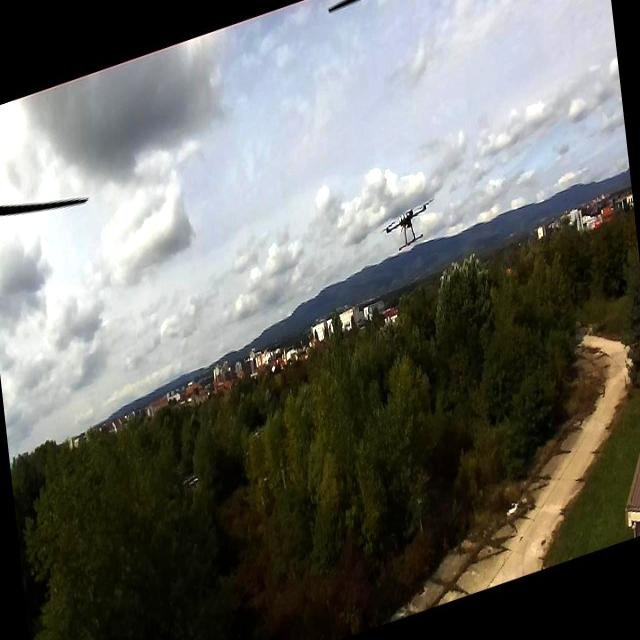drone: (381, 190, 435, 255)
